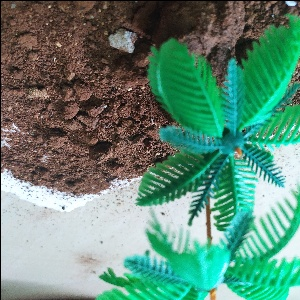plant: (136, 8, 291, 235), (86, 210, 300, 293)
